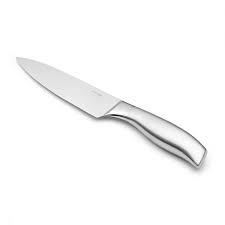Knife: (15, 55, 207, 168)
